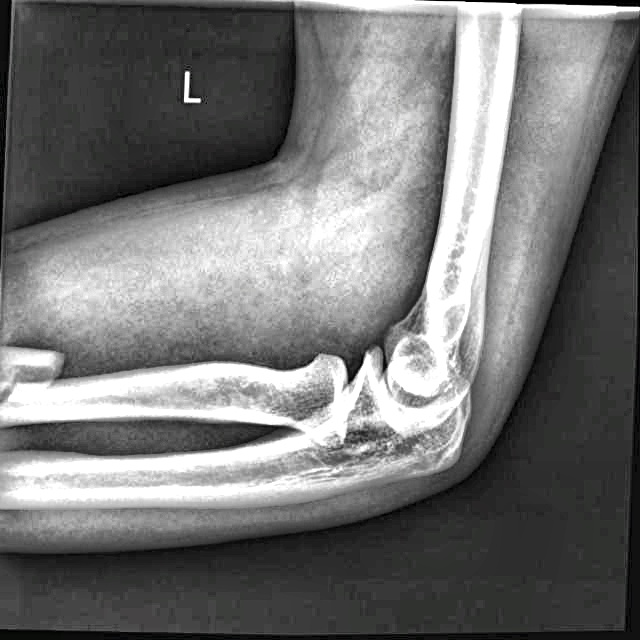Spiral: (0, 329, 65, 444)
